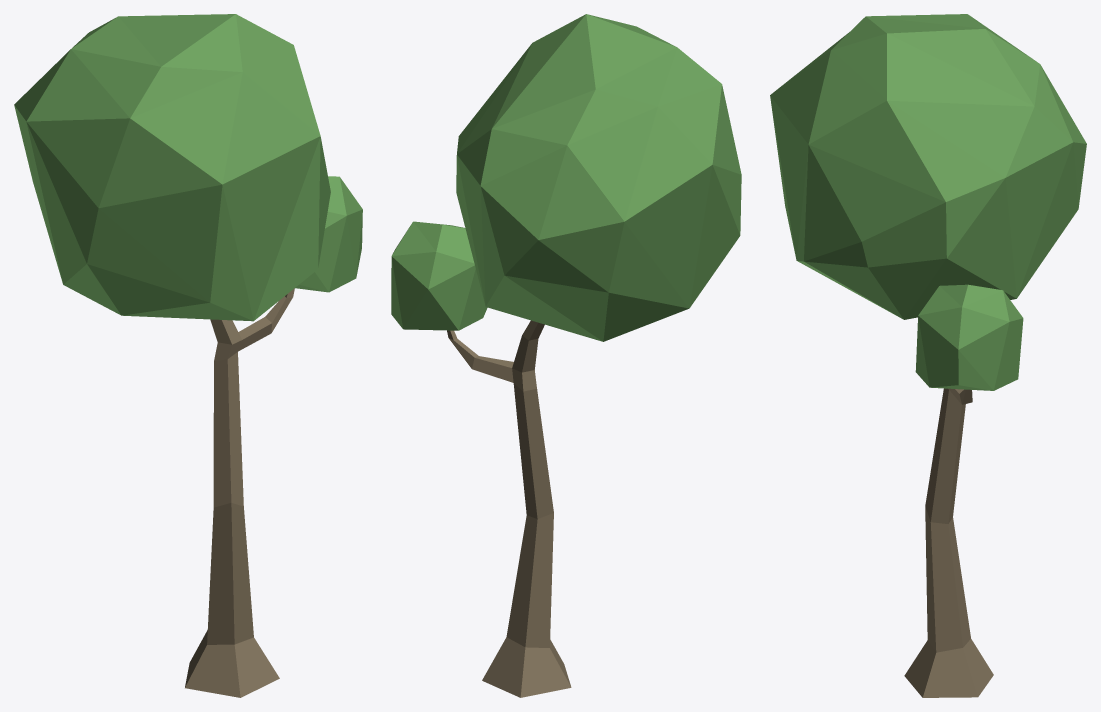
File: SM_Tree_03.FBX
3 renders of one model, left to right at view 1: azimuth 30°, elevation 25°; view 2: azimuth 150°, elevation 25°; view 3: azimuth 270°, elevation 25°, orthographic. The views are drawn at different scales.
Visible parts, largest first — view 1: SM_Tree_03; view 2: SM_Tree_03; view 3: SM_Tree_03.
Boxes of the visible parts, x1,y1,x2,y2 form: SM_Tree_03: (14,14,362,697); SM_Tree_03: (391,14,741,697); SM_Tree_03: (770,14,1086,697).
Size of the model in its own units: 285 by 559 by 252.
Materials: 1 (1 with a texture image).
